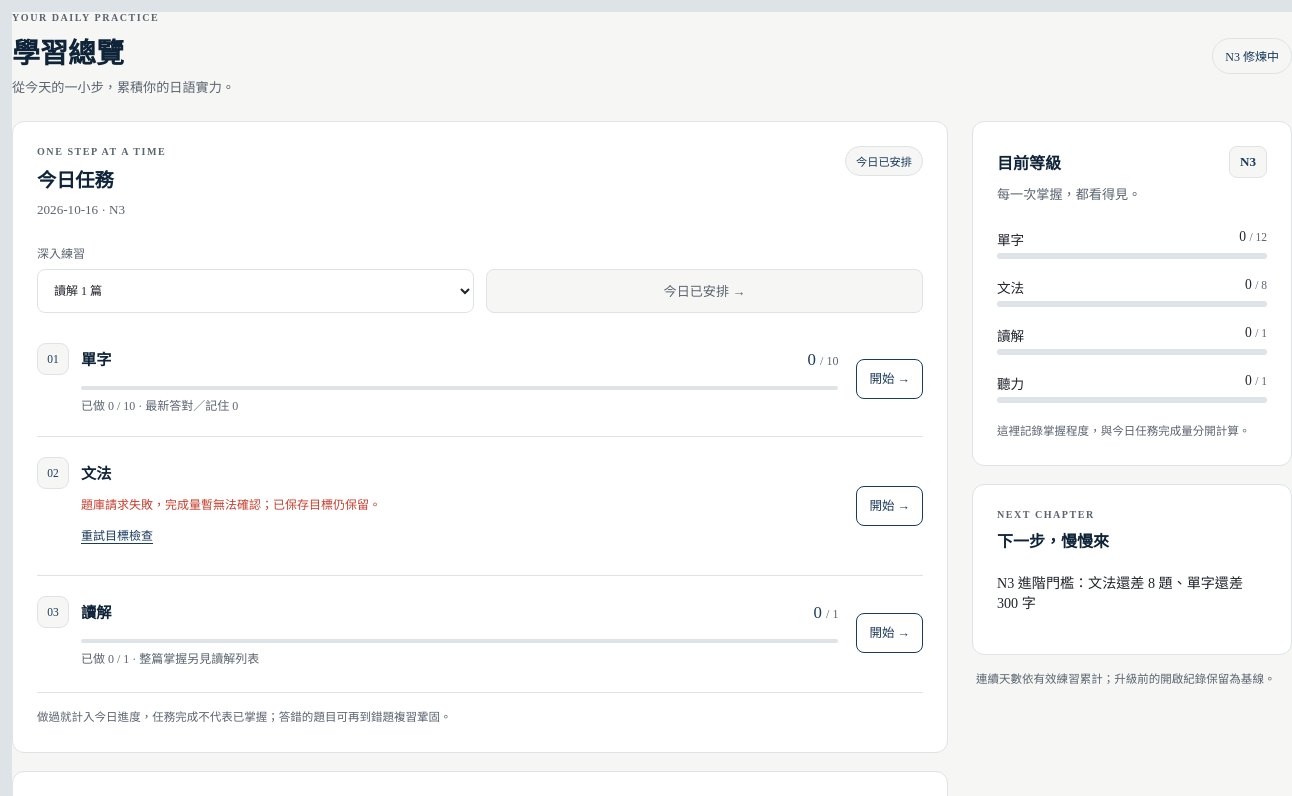
Test: home marks removed saved targets unavailable without replacing them, and retries checks without losing ready groups
Click the button "重試目標檢查": (117, 535) [81,515,153,555]
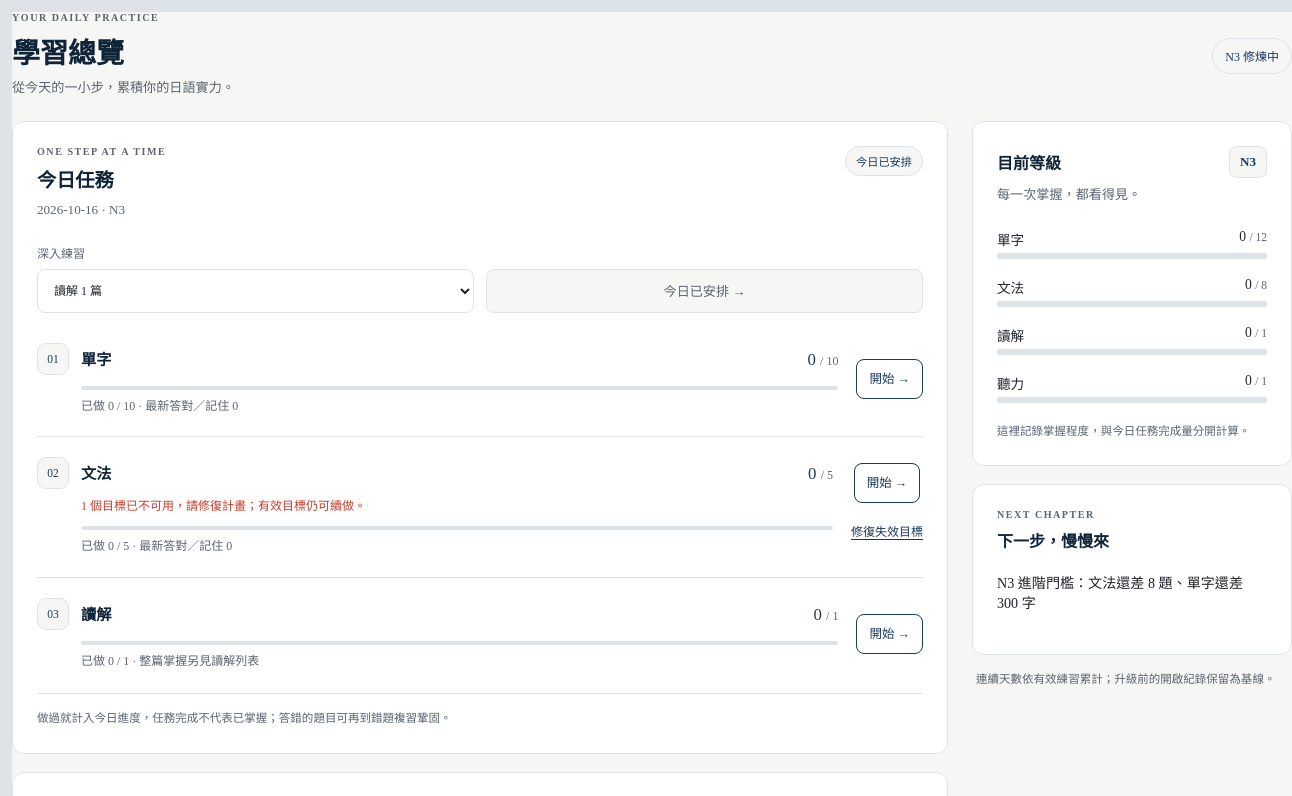
Check: the text "1 個目標已不可用" is shown, box [81,499,366,513]
